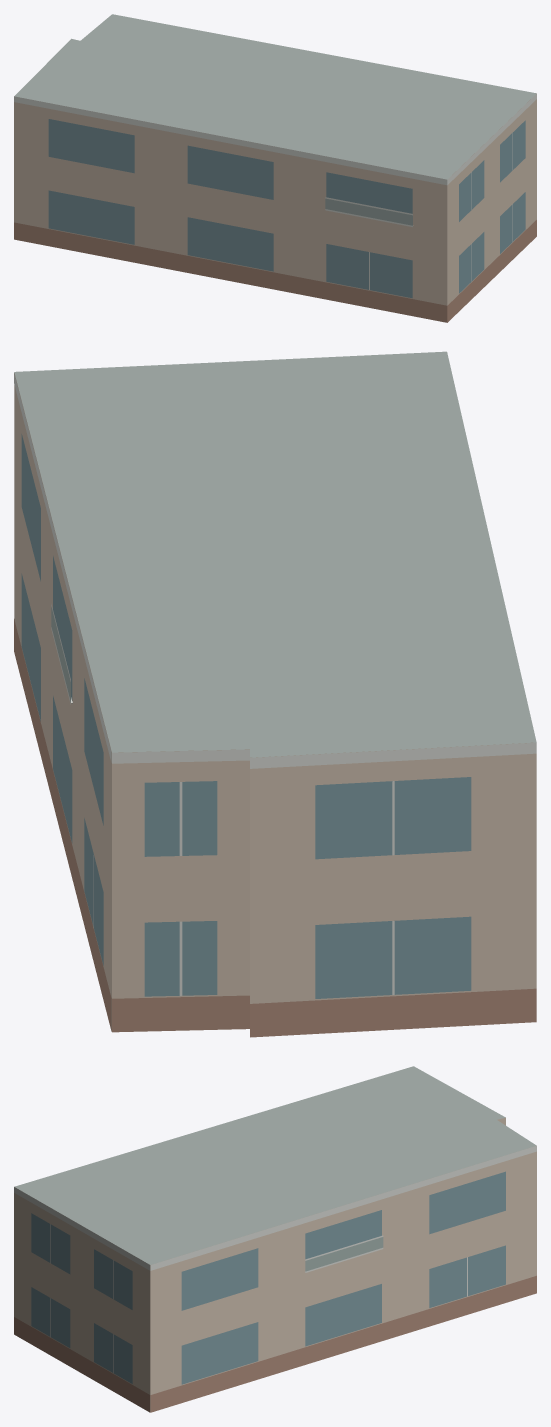
Rendered from survey-upis-32689352.glb.
The picture shows the model from 3 angles, top to bottom: view 1: azimuth 30°, elevation 25°; view 2: azimuth 150°, elevation 25°; view 3: azimuth 270°, elevation 25°; orthographic projection. The views are drawn at different scales.
Parts seen in each view (by area): view 1: survey-upis-32689352.tmp; view 2: survey-upis-32689352.tmp; view 3: survey-upis-32689352.tmp.
Boxes of the visible parts, x1=… form: survey-upis-32689352.tmp: x1=14, y1=14, x2=536, y2=322; survey-upis-32689352.tmp: x1=14, y1=351, x2=536, y2=1037; survey-upis-32689352.tmp: x1=14, y1=1066, x2=536, y2=1412.
Bounding box in the file's own units: 17.63 × 6.1 × 19.57.
